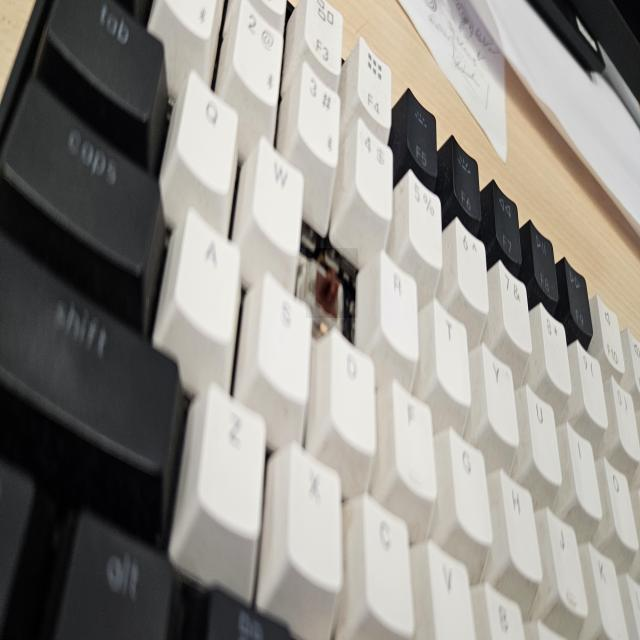C: (306, 248, 358, 318)
